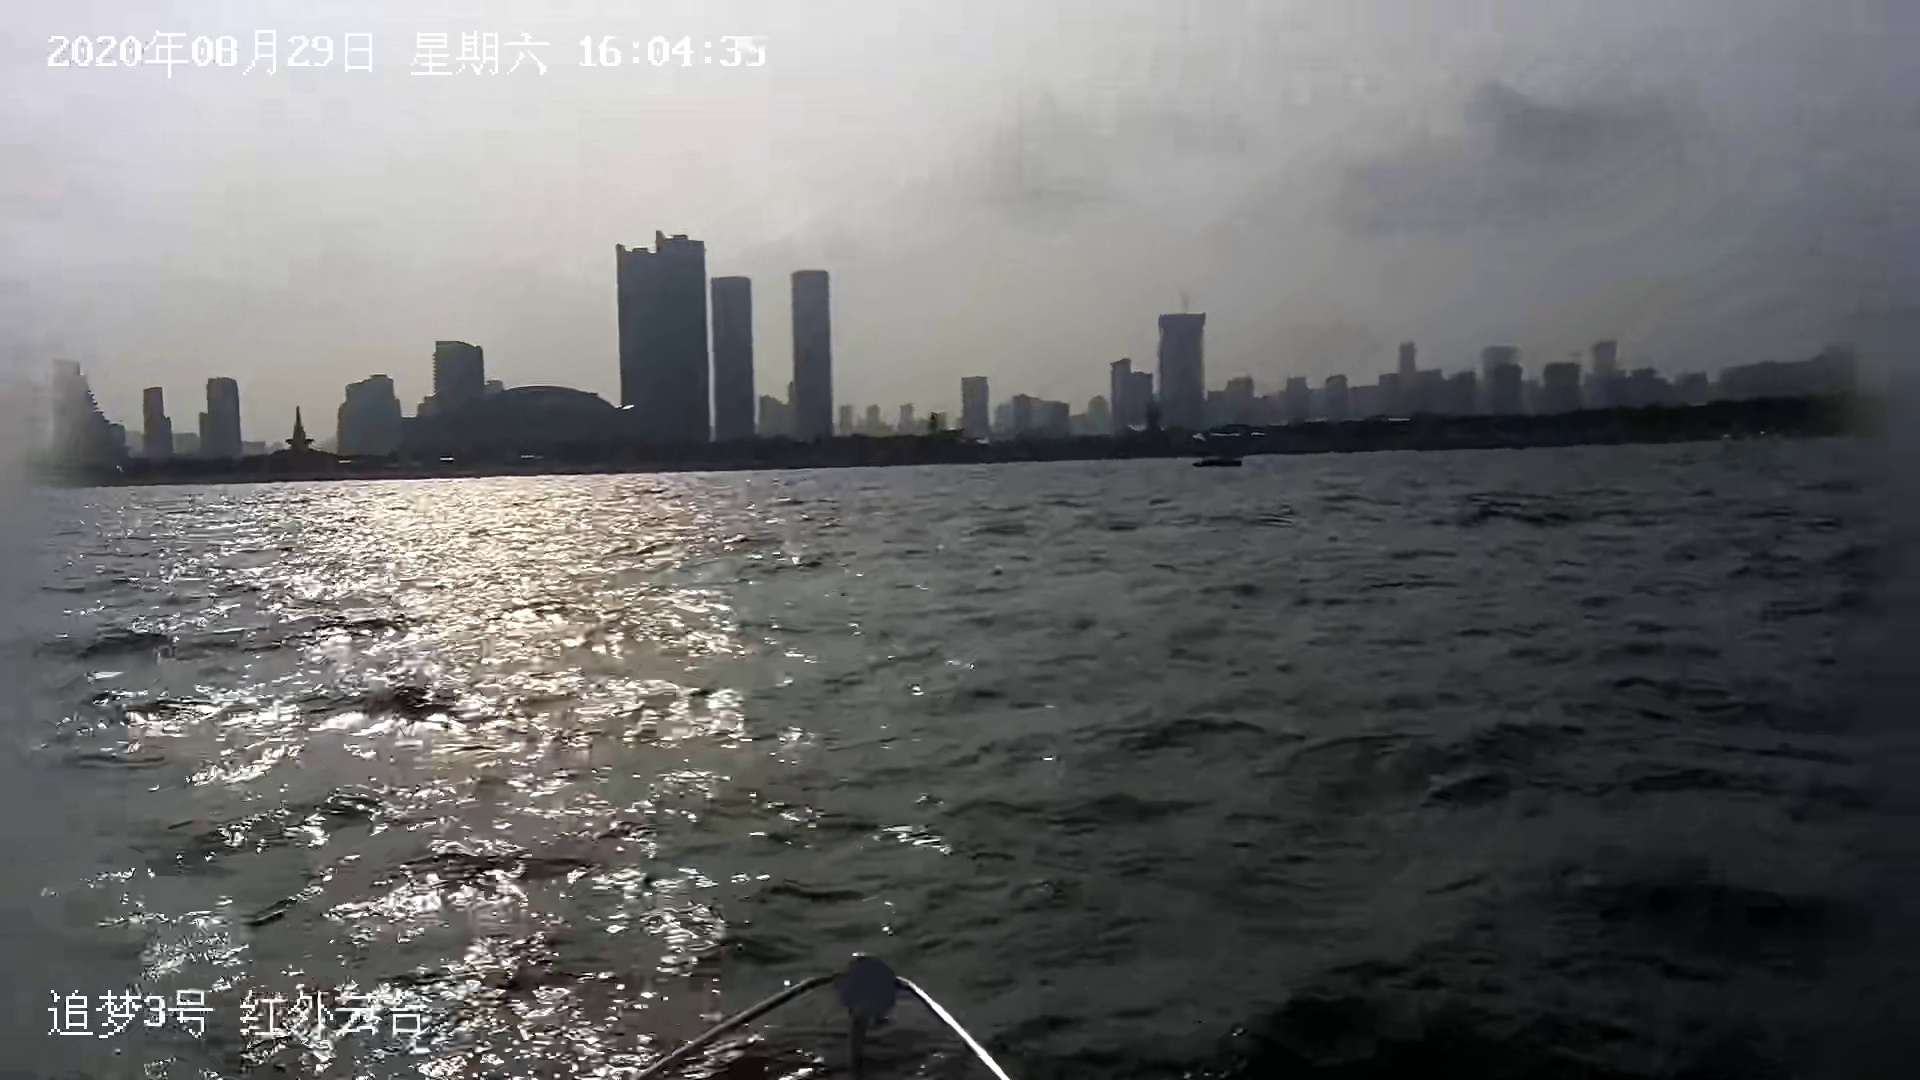barrier: (1189, 451, 1246, 471)
coast: (20, 229, 1920, 496)
